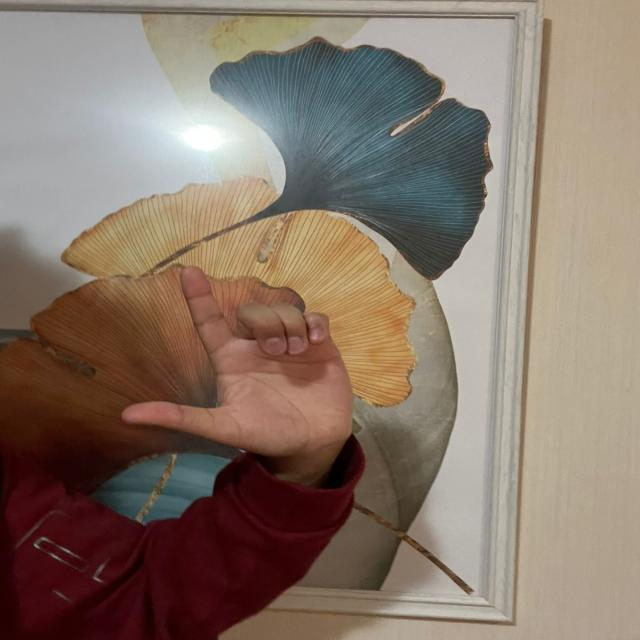L: (120, 264, 356, 456)
